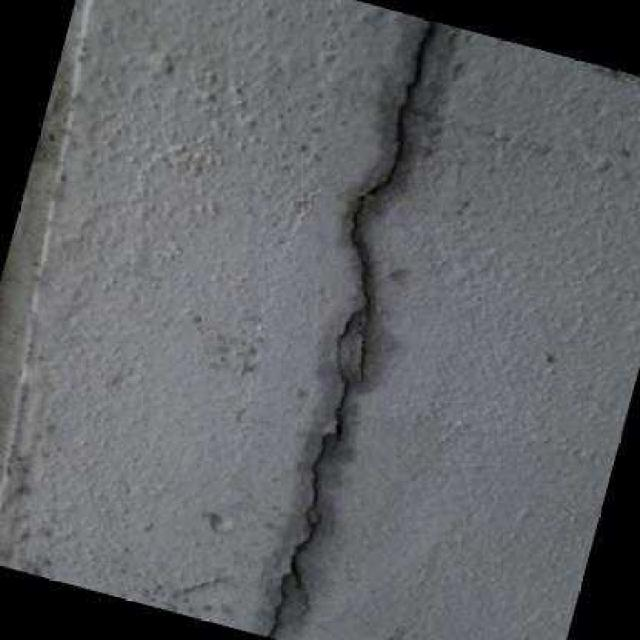D00: (264, 18, 436, 636)
